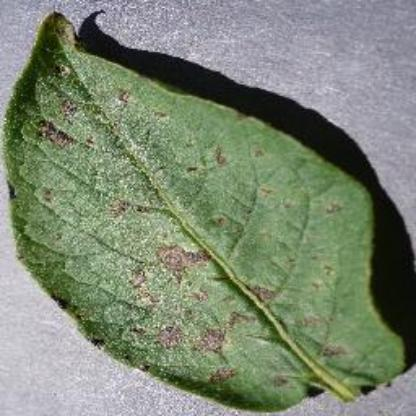Early-Blight: (10, 12, 410, 408)
